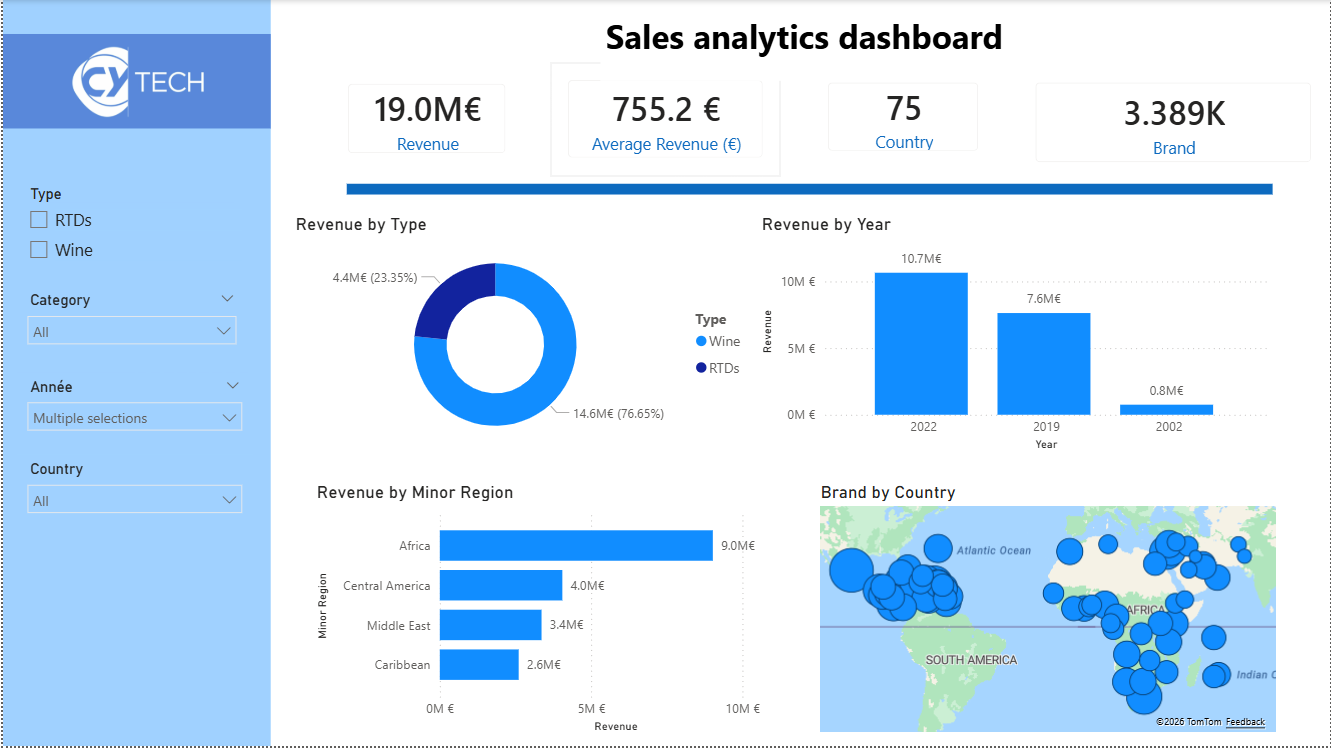

What the dashboard file says about the page in this screenshot:
{"tool":"powerbi","page":{"name":"Page 1","canvas":[1280,720],"ordinal":0},"visuals":[{"type":"textbox","box":[0,0,258.6,720],"z":0},{"type":"slicer","fields":{"Values":["Data.Category"]},"box":[13.7,275.8,222.3,75.5],"z":1000},{"type":"cardVisual","fields":{"Data":["Sum(Data.Montant)"]},"box":[315.6,64.5,186.6,101.5],"z":2000},{"type":"cardVisual","fields":{"Data":["Avg(Data.Montant)"]},"box":[528.3,60.4,222.3,109.8],"z":3000},{"type":"cardVisual","fields":{"Data":["Count(Data.Country)"]},"box":[779.4,63.1,179.8,100.2],"z":4000},{"type":"cardVisual","fields":{"Data":["Count(Brand.Brand)"]},"box":[979.8,63.1,300.5,111.1],"z":5000},{"type":"donutChart","fields":{"Category":["Data.Type"],"Y":["Sum(Data.Montant)"]},"box":[277.5,206.2,448.8,233.8],"z":6000},{"type":"slicer","fields":{"Values":["Data.Type"]},"box":[13.7,174.3,222.3,91.9],"z":7000},{"type":"barChart","fields":{"Y":["Sum(Data.Montant)"],"Category":["Country.Minor Region"]},"box":[298,464.5,486.2,247.3],"z":8000},{"type":"slicer","fields":{"Values":["Data.Country"]},"box":[13.7,439.1,227.8,72.7],"z":9000},{"type":"azureMap","fields":{"Category":["Data.Country"],"Size":["CountNonNull(Data.Brand)"]},"box":[784.2,464.5,448.8,247.3],"z":10000},{"type":"image","box":[0,0,258.8,156.2],"z":11000},{"type":"textbox","box":[332.1,177,893.3,6.9],"z":12000},{"type":"slicer","fields":{"Values":["Data.Année"]},"box":[13.7,359.5,227.8,79.6],"z":13000},{"type":"textbox","box":[576.3,8.2,413,70],"z":14000},{"type":"columnChart","fields":{"Category":["Data.Année"],"Y":["Sum(Data.Montant)"]},"box":[727,206,498,234],"z":15000}]}

Visuals, with their boxes in screenshot pixels (x1, y1, x2, y2), scaled from the page's 1280x720 canvas onto the 1331x748 screenshot:
textbox: (left=0, top=0, right=269, bottom=747)
slicer - Data.Category: (left=14, top=287, right=245, bottom=365)
cardVisual - Sum(Data.Montant): (left=328, top=67, right=522, bottom=172)
cardVisual - Avg(Data.Montant): (left=549, top=63, right=781, bottom=177)
cardVisual - Count(Data.Country): (left=810, top=66, right=997, bottom=170)
cardVisual - Count(Brand.Brand): (left=1019, top=66, right=1330, bottom=181)
donutChart - Data.Type x Sum(Data.Montant): (left=289, top=214, right=755, bottom=457)
slicer - Data.Type: (left=14, top=181, right=245, bottom=277)
barChart - Sum(Data.Montant) x Country.Minor Region: (left=310, top=483, right=815, bottom=739)
slicer - Data.Country: (left=14, top=456, right=251, bottom=532)
azureMap - Data.Country x CountNonNull(Data.Brand): (left=815, top=483, right=1282, bottom=739)
image: (left=0, top=0, right=269, bottom=162)
textbox: (left=345, top=184, right=1274, bottom=191)
slicer - Data.Année: (left=14, top=373, right=251, bottom=456)
textbox: (left=599, top=9, right=1029, bottom=81)
columnChart - Data.Année x Sum(Data.Montant): (left=756, top=214, right=1274, bottom=457)
